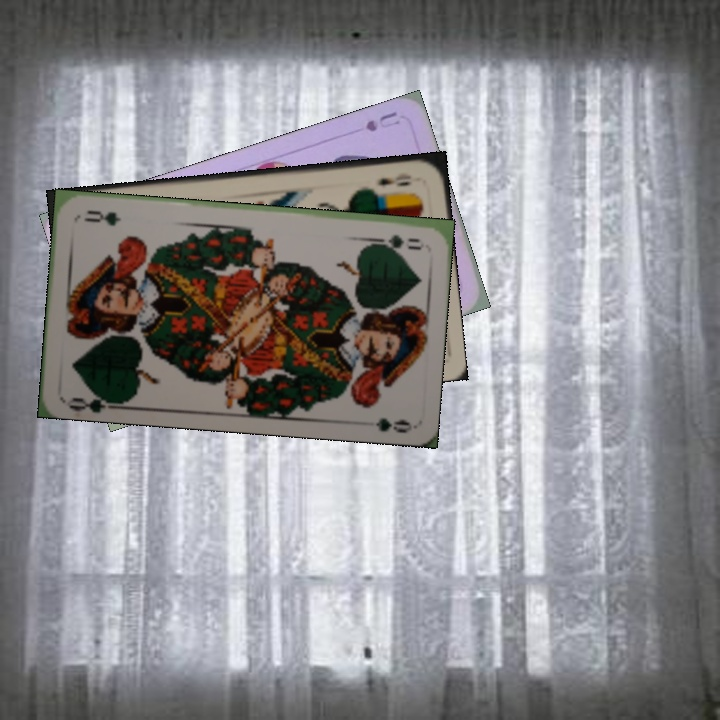EO: (374, 169, 415, 189)
GO: (63, 385, 123, 413), (367, 230, 421, 250)
SU: (361, 107, 403, 134)
